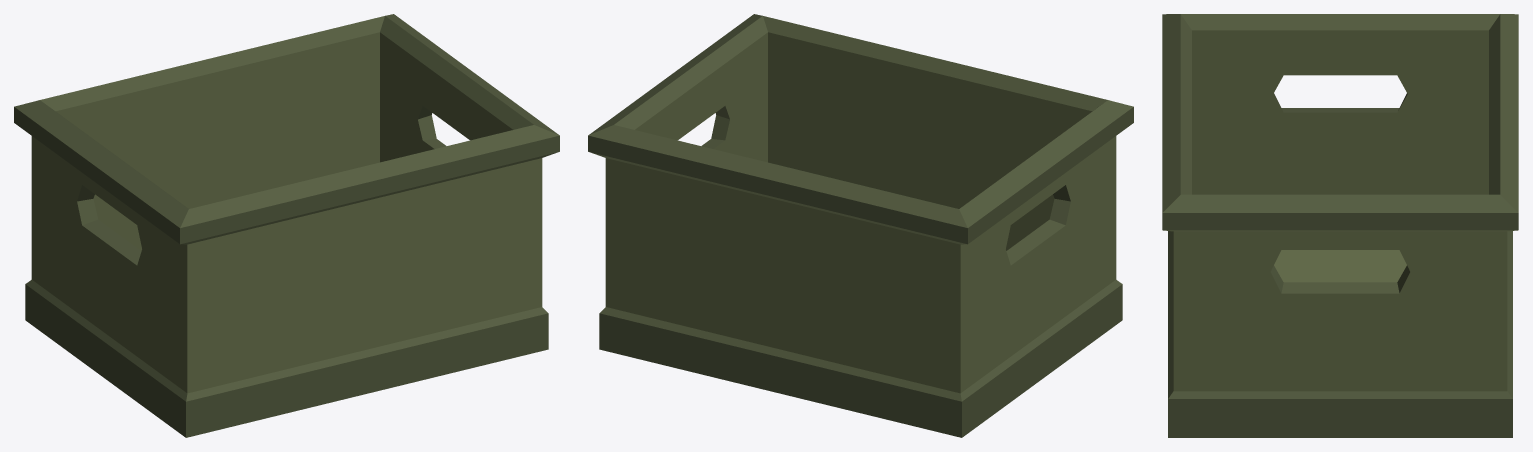
File: SM_Prop_Box_01.fbx
The picture shows the model from 3 angles, left to right: view 1: azimuth 30°, elevation 25°; view 2: azimuth 150°, elevation 25°; view 3: azimuth 270°, elevation 25°; orthographic projection. The views are drawn at different scales.
Visible parts, largest first — view 1: SM_Prop_Box_01; view 2: SM_Prop_Box_01; view 3: SM_Prop_Box_01.
Part boxes in pixels (x1=…): SM_Prop_Box_01: x1=14, y1=14, x2=559, y2=437; SM_Prop_Box_01: x1=588, y1=14, x2=1133, y2=437; SM_Prop_Box_01: x1=1162, y1=14, x2=1518, y2=437.
Size of the model in its own units: 58.47 by 32.73 by 44.27.
